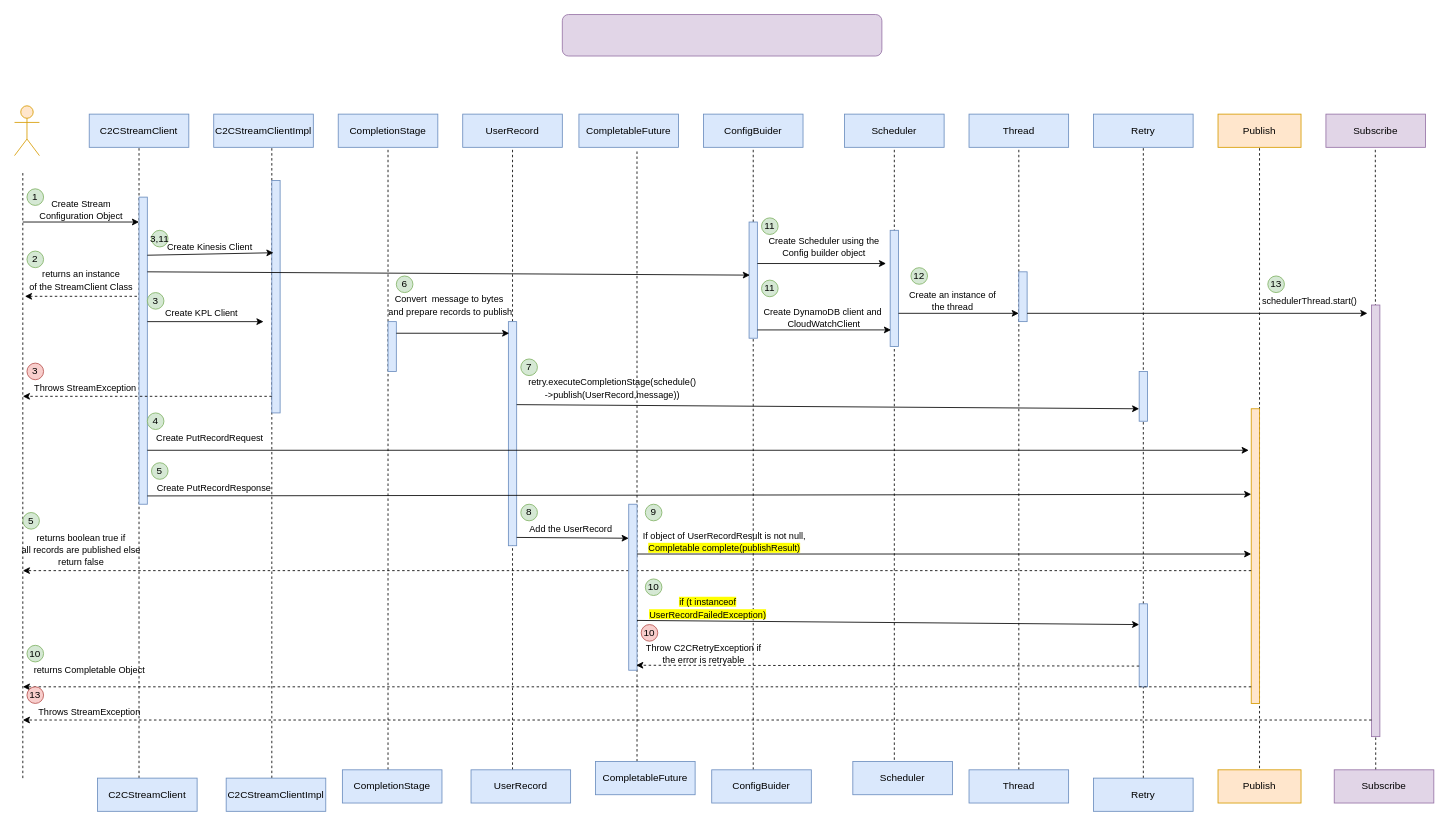
This 1448x826 diagram has some shape labels left out. Each missing label, with the centre of its shape:
"Client" goes at point (26, 130).
"Sequence Diagram C2C_StreamClientImpl - QCC2CPLAT-769" goes at point (721, 35).
